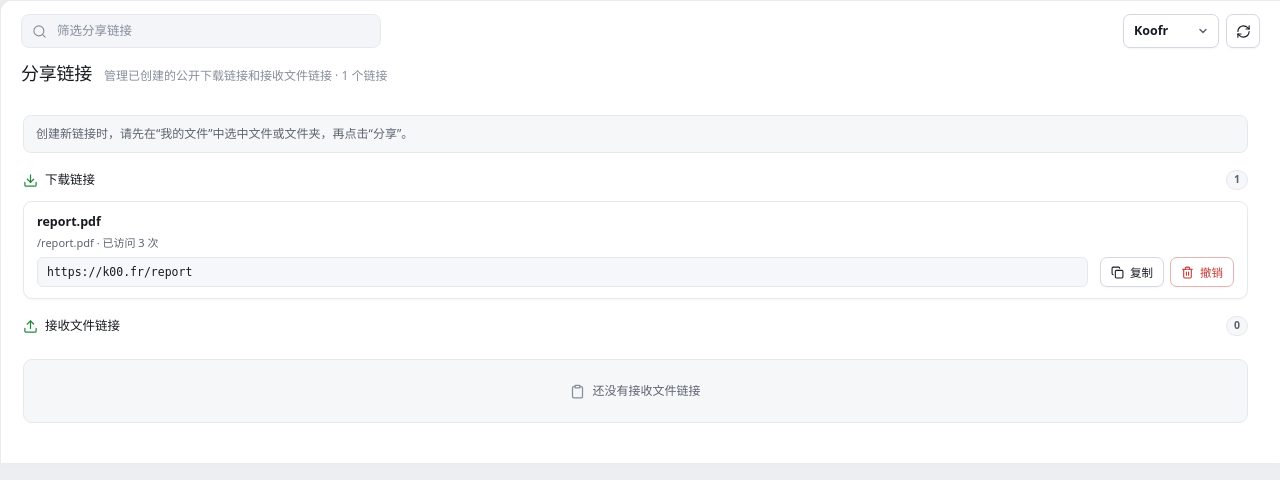
Test: ShareLinksWorkspace › requires a second click before revoking a link
Expected: the text "report.pdf" is shown, [37,213,101,230]
Click the button with aria-label "撤销 report.pdf" at (1202, 272), box [1170,257,1234,287]
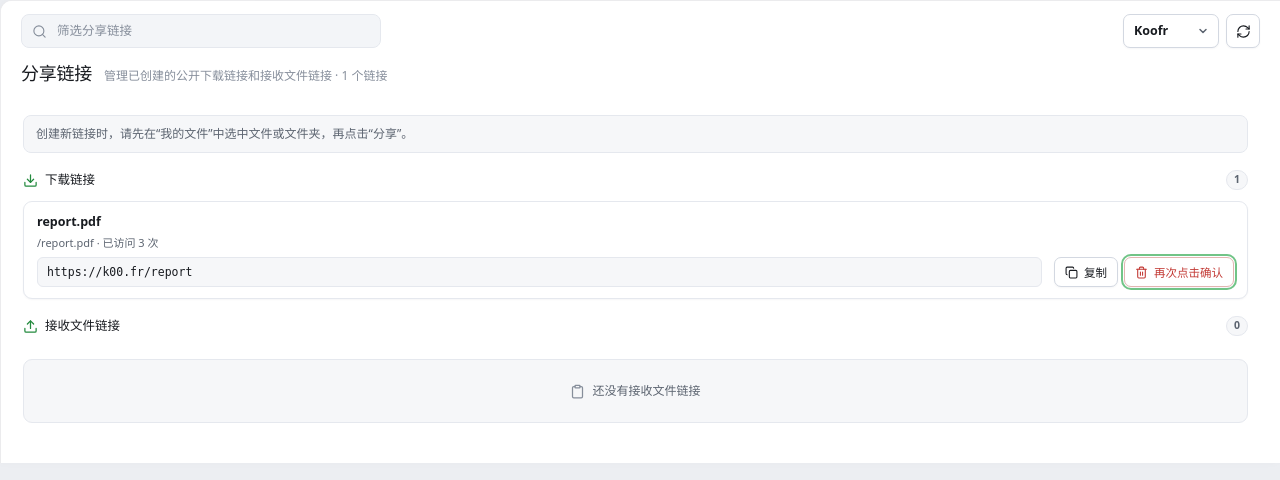
Click the button with aria-label "确认撤销 report.pdf" at (1179, 272), box [1124,257,1234,287]
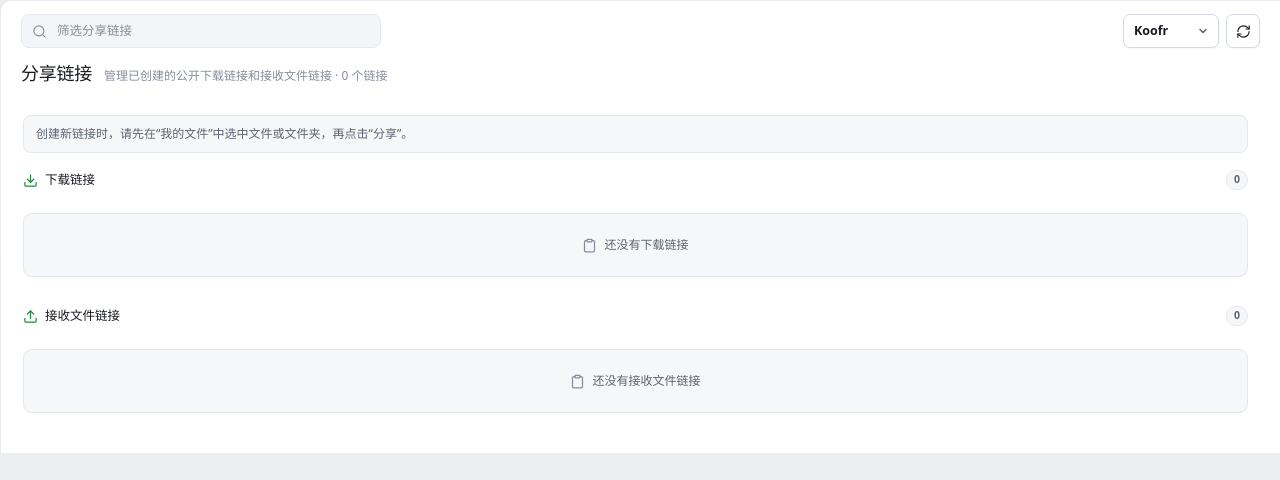
Expected: the text "report.pdf" is gone
